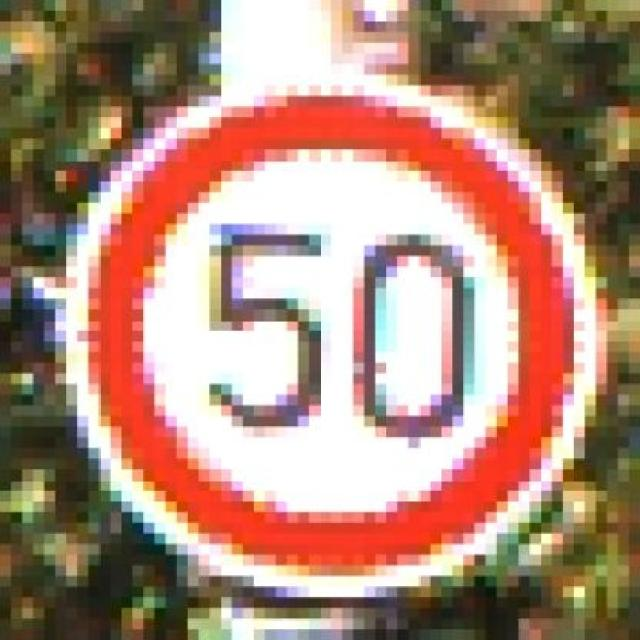forb_speed_over_50: (76, 95, 582, 578)
